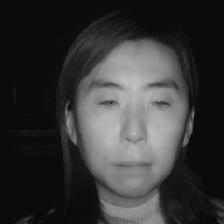normal: (56, 6, 203, 207)
